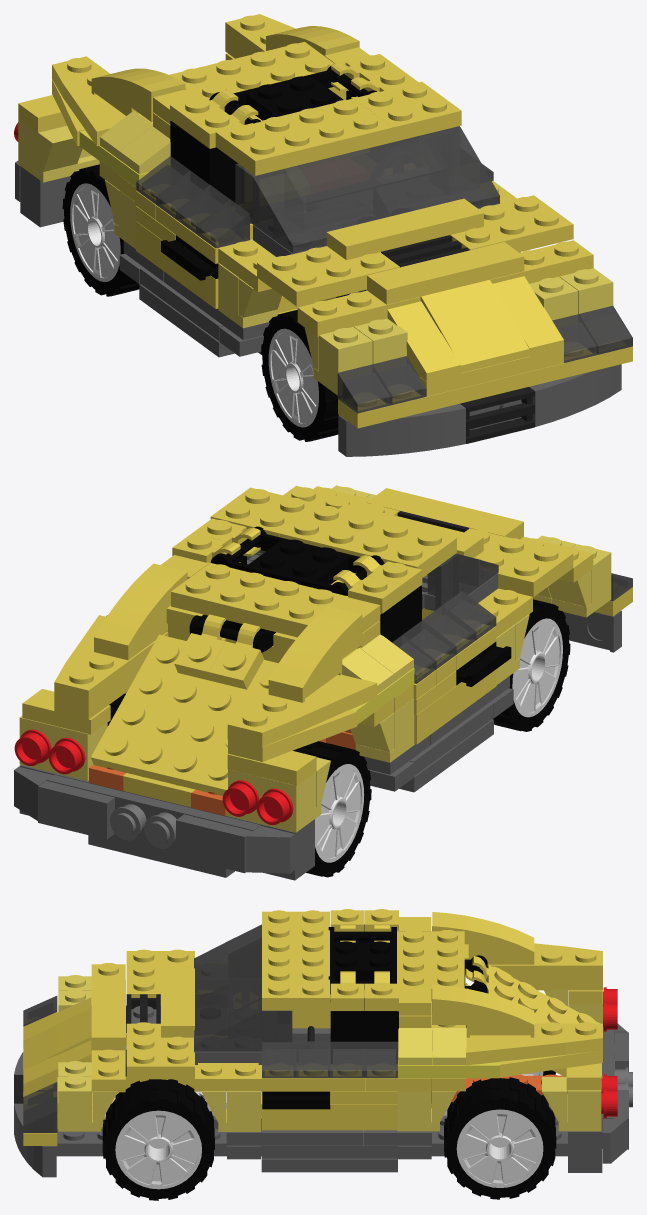
Rendered from src_rotated.glb.
3 renders of one model, top to bottom at view 1: azimuth 30°, elevation 25°; view 2: azimuth 150°, elevation 25°; view 3: azimuth 270°, elevation 25°, orthographic. The views are drawn at different scales.
Parts seen in each view (by area): view 1: Cube.053_Cube.060, Cube.164_Cube.178, Cylinder.000_Cylinder.008, Cube.020_Cube.042, Cylinder.009_Cylinder.010, Cube.010_Cube.031, Cube.037_Cube.028, Cube.021_Cube.043, Cube.038_Cube.029, Cube.008_Cube.022, Cube.100_Cube.112, Cube.036_Cube.027 (+55 smaller); view 2: Cube.025_Cube.002, Cube.164_Cube.178, Cube.100_Cube.112, Cylinder.009_Cylinder.010, Cylinder.000_Cylinder.008, Cube.103_Cube.115, Cube.105_Cube.117, Cube.099_Cube.111, Cube.037_Cube.028, Cube.097_Cube.109, Cube.122_Cube.132, Cube.123_Cube.133 (+64 smaller); view 3: Cylinder.008_Cylinder.009, Cylinder.001_Cylinder.002, Cube.053_Cube.060, Cube.164_Cube.178, Cube.097_Cube.109, Cube.099_Cube.111, Cube.100_Cube.112, Cube.036_Cube.027, Cube.139_Cube.152, Cube.103_Cube.115, Cube.144_Cube.158, Cube.105_Cube.117 (+78 smaller).
Part boxes in pixels (x1,y1,x2,y2): Cube.053_Cube.060: (235, 126, 499, 253); Cube.164_Cube.178: (215, 81, 461, 175); Cylinder.000_Cylinder.008: (261, 310, 338, 441); Cube.020_Cube.042: (420, 279, 529, 372); Cylinder.009_Cylinder.010: (62, 164, 140, 296); Cube.010_Cube.031: (338, 346, 632, 428); Cube.037_Cube.028: (257, 246, 399, 306); Cube.021_Cube.043: (367, 242, 524, 304); Cube.038_Cube.029: (326, 198, 483, 260); Cube.008_Cube.022: (338, 403, 465, 456); Cube.100_Cube.112: (169, 42, 334, 99); Cube.036_Cube.027: (450, 195, 573, 252); Cube.025_Cube.002: (90, 634, 278, 795); Cube.164_Cube.178: (210, 487, 456, 577); Cube.100_Cube.112: (171, 563, 347, 637); Cylinder.009_Cylinder.010: (293, 741, 371, 877); Cylinder.000_Cylinder.008: (492, 599, 570, 731); Cube.103_Cube.115: (268, 606, 362, 702); Cube.105_Cube.117: (227, 674, 377, 746); Cube.099_Cube.111: (94, 563, 187, 660); Cube.037_Cube.028: (464, 528, 573, 596); Cube.097_Cube.109: (54, 615, 168, 704); Cube.122_Cube.132: (38, 780, 114, 839); Cube.123_Cube.133: (176, 814, 252, 873); Cylinder.008_Cylinder.009: (444, 1077, 556, 1199); Cylinder.001_Cylinder.002: (102, 1079, 214, 1200); Cube.053_Cube.060: (194, 924, 292, 1051); Cube.164_Cube.178: (262, 910, 329, 1010); Cube.097_Cube.109: (466, 1022, 602, 1065); Cube.099_Cube.111: (432, 985, 534, 1037); Cube.100_Cube.112: (397, 930, 464, 1001); Cube.036_Cube.027: (126, 1022, 194, 1079); Cube.139_Cube.152: (262, 1091, 397, 1130); Cube.103_Cube.115: (432, 912, 534, 964); Cube.144_Cube.158: (226, 1118, 431, 1145); Cube.105_Cube.117: (489, 943, 602, 978).
Bounding box in the file's own units: 14.02 × 10.13 × 28.46.
